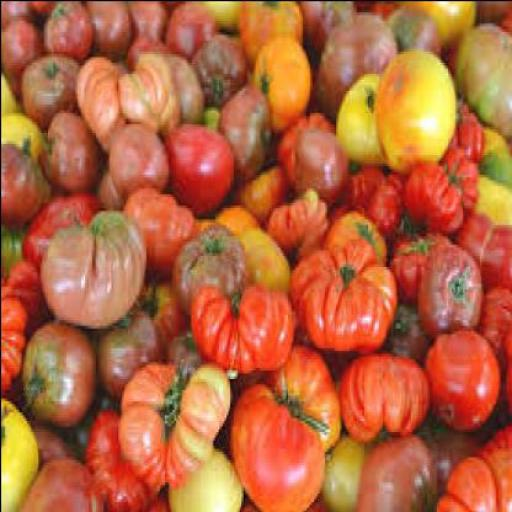biodegradable: (121, 353, 235, 484), (230, 378, 332, 509), (40, 204, 146, 328), (288, 235, 399, 350), (376, 45, 458, 168), (338, 346, 432, 445), (190, 283, 296, 369), (271, 342, 343, 454), (317, 8, 398, 106), (426, 324, 503, 426), (24, 319, 99, 422), (86, 405, 160, 509), (160, 117, 236, 210), (454, 16, 511, 138), (356, 428, 439, 510), (173, 218, 252, 304), (98, 296, 162, 394), (22, 187, 102, 263), (122, 182, 194, 266), (257, 30, 313, 132), (58, 378, 123, 461), (419, 243, 484, 324), (108, 114, 172, 196), (119, 45, 181, 126), (219, 81, 272, 174), (167, 445, 244, 509), (290, 123, 350, 204), (18, 453, 104, 509), (337, 66, 387, 162), (439, 444, 511, 510), (404, 156, 465, 233), (275, 104, 335, 182), (389, 227, 453, 299), (76, 50, 123, 148), (268, 185, 332, 252), (423, 420, 489, 484), (239, 1, 304, 65), (458, 203, 511, 281), (2, 392, 37, 510), (44, 109, 98, 185), (150, 44, 203, 121), (191, 31, 248, 101), (24, 54, 84, 120), (130, 272, 186, 342), (395, 2, 476, 50), (320, 428, 367, 510), (2, 138, 48, 218), (2, 11, 45, 95), (383, 299, 434, 364), (235, 154, 287, 213), (369, 167, 413, 235), (324, 208, 388, 254), (166, 1, 222, 53), (302, 1, 358, 53), (386, 1, 442, 53), (2, 288, 30, 391), (42, 1, 96, 53), (1, 258, 43, 322), (336, 157, 386, 207), (441, 140, 481, 201), (90, 1, 133, 57), (30, 420, 80, 467), (1, 112, 47, 162), (484, 277, 512, 347), (479, 123, 511, 181), (454, 95, 484, 154), (479, 167, 511, 219), (242, 490, 329, 509), (2, 218, 31, 274), (126, 28, 168, 64), (216, 198, 260, 230), (170, 327, 203, 367), (135, 0, 169, 37), (2, 64, 26, 112), (204, 1, 245, 26), (502, 322, 511, 418), (355, 0, 404, 17), (476, 2, 511, 24), (146, 482, 173, 509), (482, 422, 511, 446), (1, 1, 32, 22), (29, 0, 58, 17), (199, 210, 218, 229)
